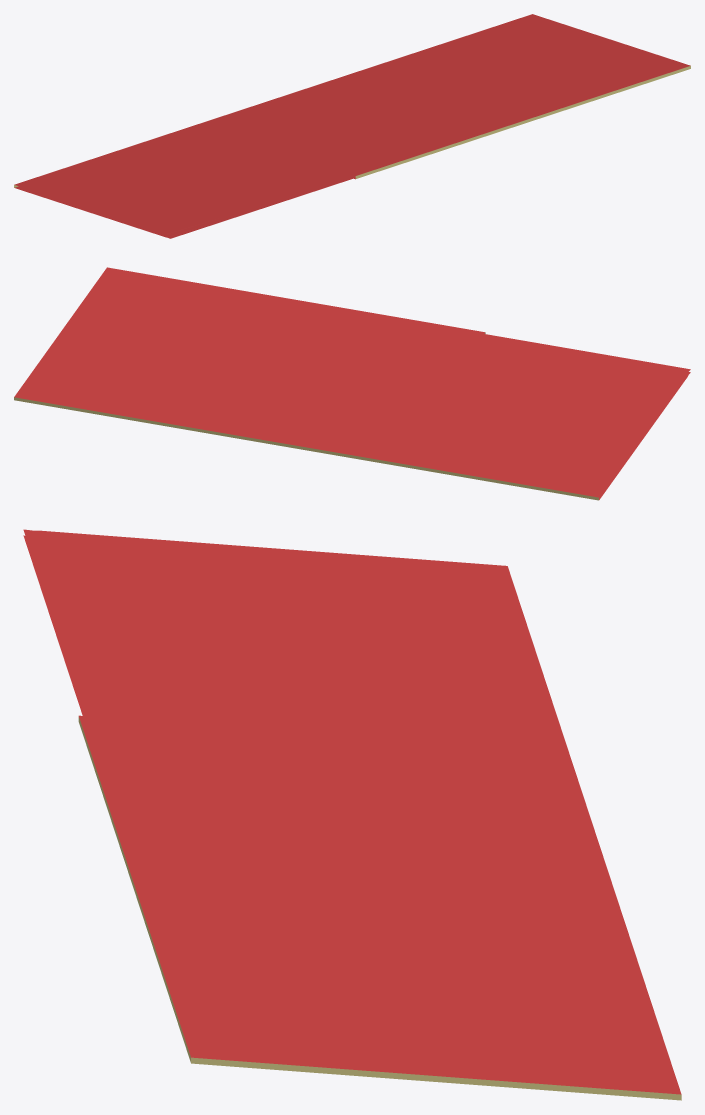
3 renders of one model, top to bottom at view 1: azimuth 30°, elevation 25°; view 2: azimuth 150°, elevation 25°; view 3: azimuth 270°, elevation 25°, orthographic. The views are drawn at different scales.
Size of the model in its own units: 20.09 by 10.03 by 1.21.
